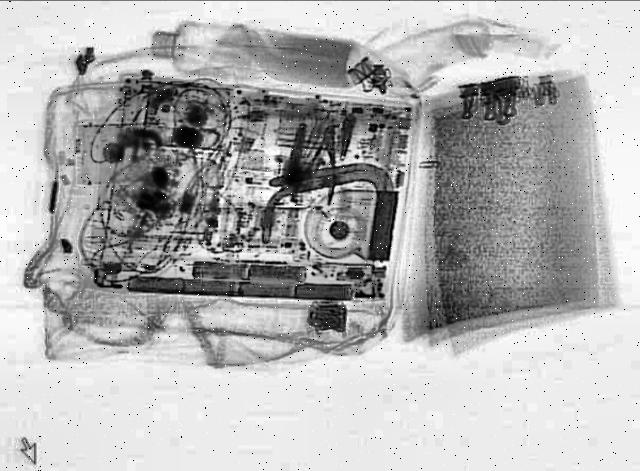Pliers: (294, 127, 350, 207)
